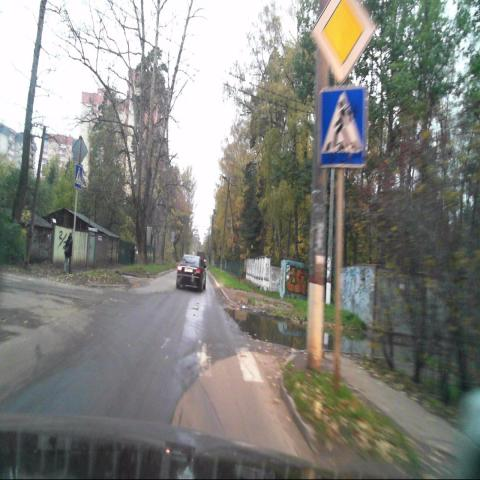2_1: (312, 0, 374, 86)
5_19_1: (321, 89, 366, 168), (74, 164, 82, 188)
